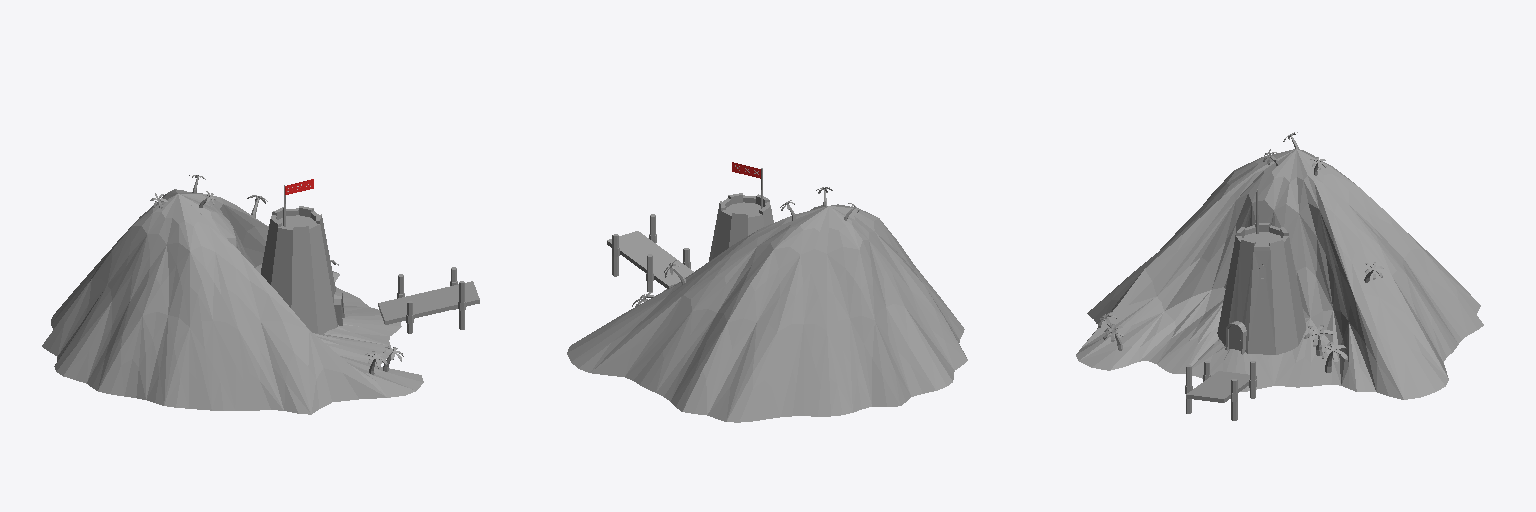
3 renders of one model, left to right at view 1: azimuth 30°, elevation 25°; view 2: azimuth 150°, elevation 25°; view 3: azimuth 270°, elevation 25°, orthographic.
Visible parts, largest first — view 1: Island_subsurf_Cone.000, Trees_Cylinder.001; view 2: Island_subsurf_Cone.000, Trees_Cylinder.001; view 3: Island_subsurf_Cone.000, Trees_Cylinder.001.
Part boxes in pixels (bbox=[...]): Island_subsurf_Cone.000: bbox=[42, 189, 423, 414]; Trees_Cylinder.001: bbox=[150, 175, 479, 374]; Island_subsurf_Cone.000: bbox=[567, 204, 967, 422]; Trees_Cylinder.001: bbox=[607, 168, 860, 306]; Island_subsurf_Cone.000: bbox=[1076, 149, 1483, 399]; Trees_Cylinder.001: bbox=[1096, 132, 1383, 420].
Bounding box in the file's own units: 1.23 × 0.4904 × 1.15.
3 materials, 1 textured.